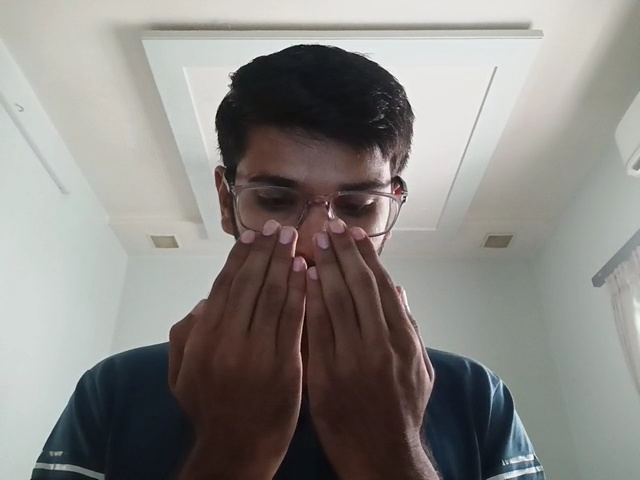Thank You: (141, 215, 469, 455)
